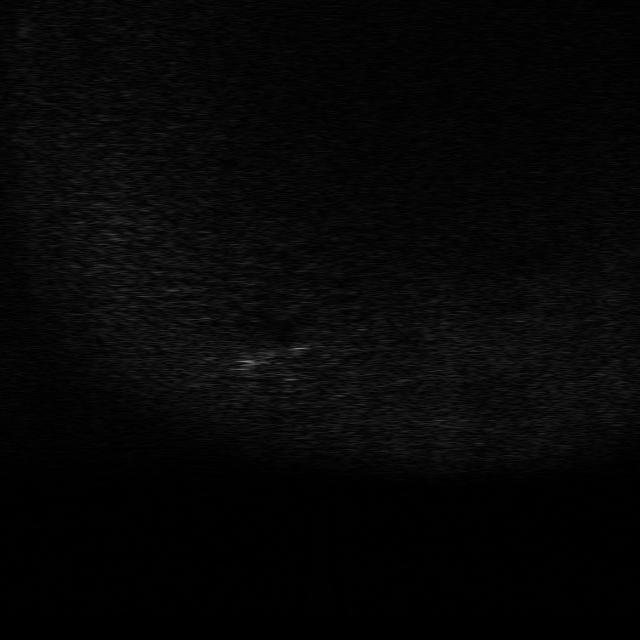plane: (230, 338, 318, 376)
